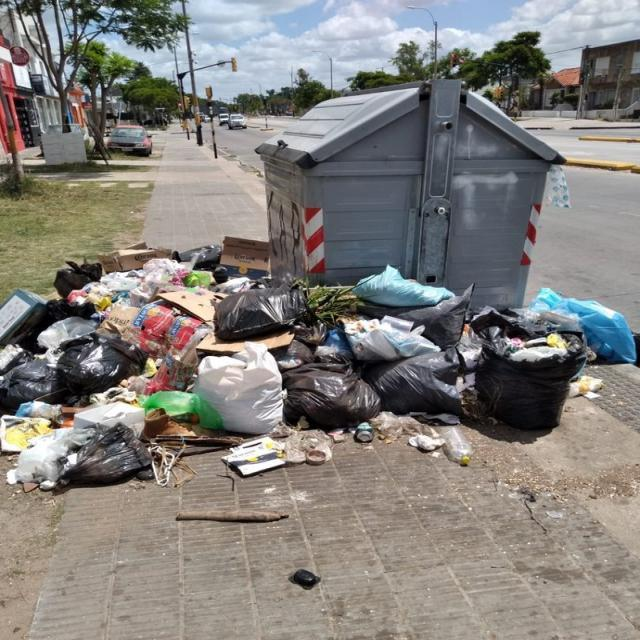high trash: (0, 239, 635, 489)
